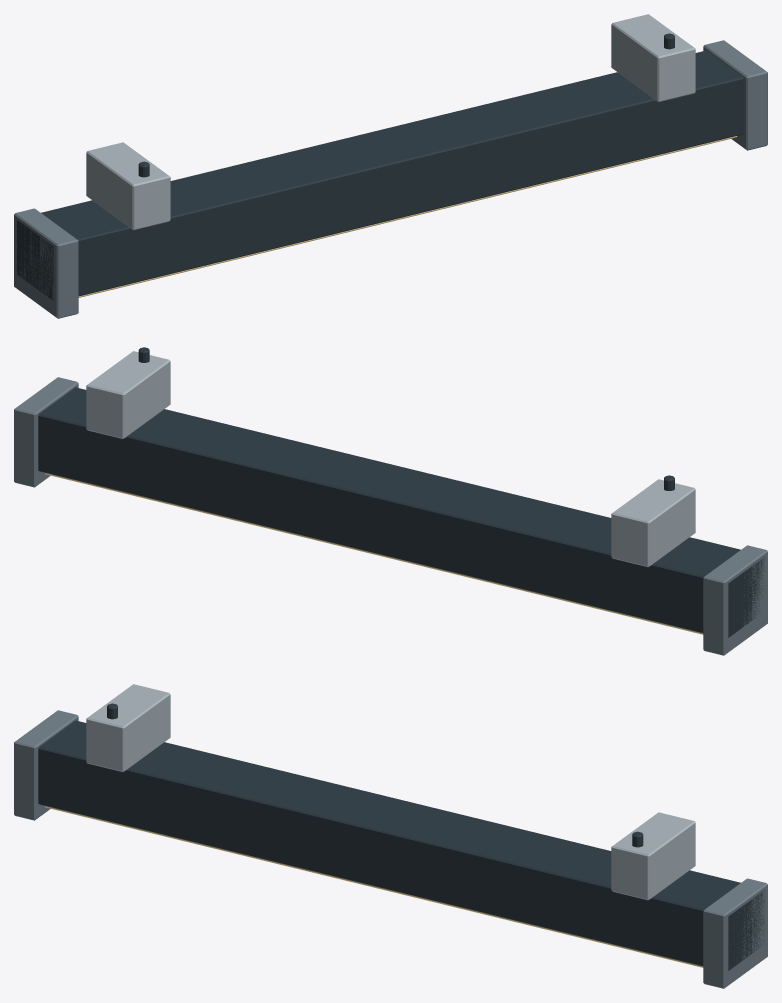
The model's file is b18_linear_canopy_strip_light.glb.
3 renders of one model, top to bottom at view 1: azimuth 30°, elevation 25°; view 2: azimuth 150°, elevation 25°; view 3: azimuth 330°, elevation 25°, orthographic.
Parts seen in each view (by area): view 1: b18_linear_canopy_strip_light; view 2: b18_linear_canopy_strip_light; view 3: b18_linear_canopy_strip_light.
Boxes of the visible parts, x1=… form: b18_linear_canopy_strip_light: x1=14, y1=14, x2=767, y2=318; b18_linear_canopy_strip_light: x1=14, y1=347, x2=767, y2=655; b18_linear_canopy_strip_light: x1=14, y1=684, x2=767, y2=988.
Bounding box in the file's own units: 1.3 × 0.225 × 0.15.
